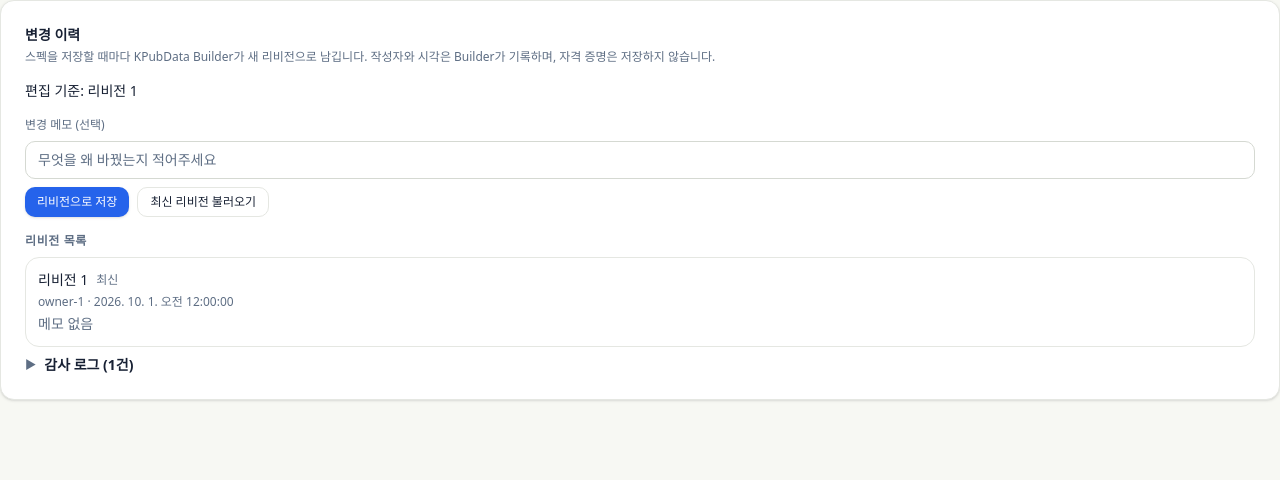
Test: SpecRevisionPanel › refuses a spec with a credential before any request
Expected: the text "편집 기준: 리비전 1" is shown, [25,81,138,100]
Click the button "리비전으로 저장" at (77, 202), box [25,187,129,217]
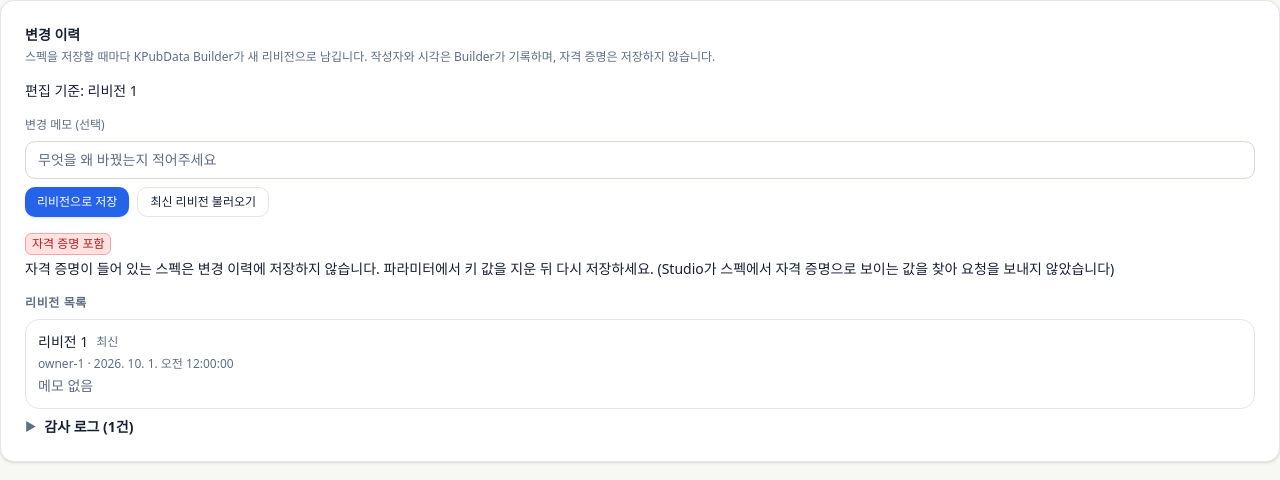
Now the message with test id "spec-revision-credential" is shown, box [25,233,1255,279]
